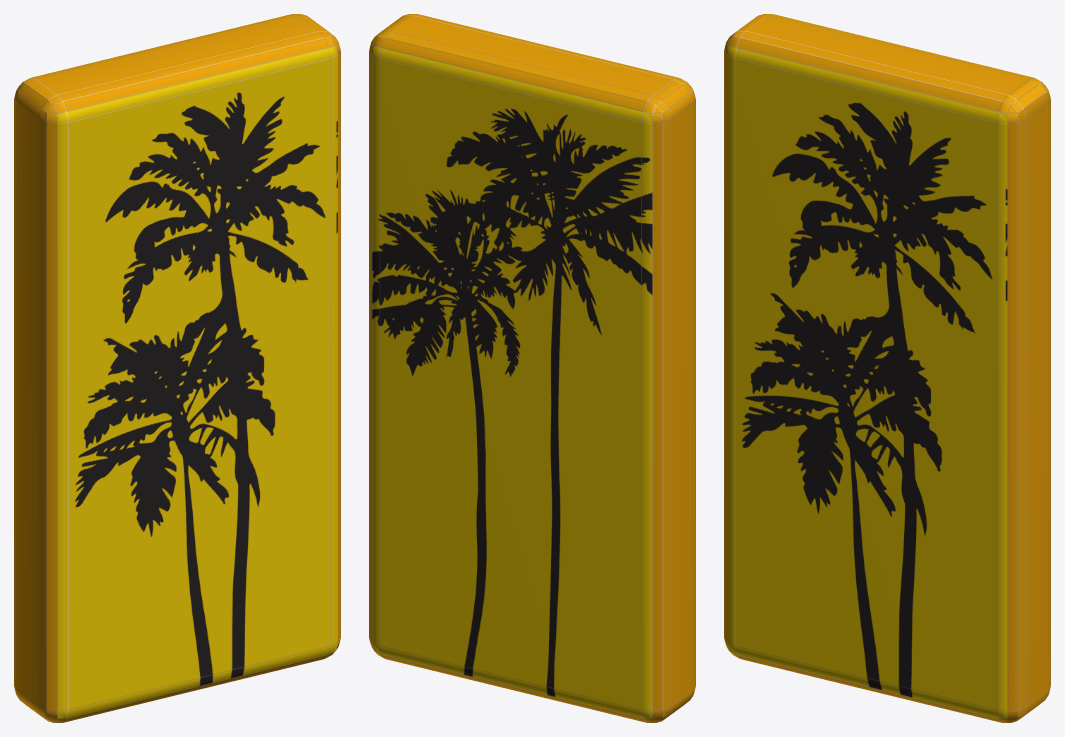
File: drop_target.fbx
3 views of the same model, side by side, from view 1: azimuth 30°, elevation 25°; view 2: azimuth 150°, elevation 25°; view 3: azimuth 330°, elevation 25° (orthographic).
Visible parts, largest first — view 1: pCube3; view 2: pCube3; view 3: pCube3.
Part boxes in pixels (x1=…): pCube3: x1=14, y1=14, x2=340, y2=722; pCube3: x1=369, y1=14, x2=695, y2=722; pCube3: x1=724, y1=14, x2=1050, y2=722.
Bounding box in the file's own units: 0.6 × 1.2 × 0.15.
1 material, 1 textured.
